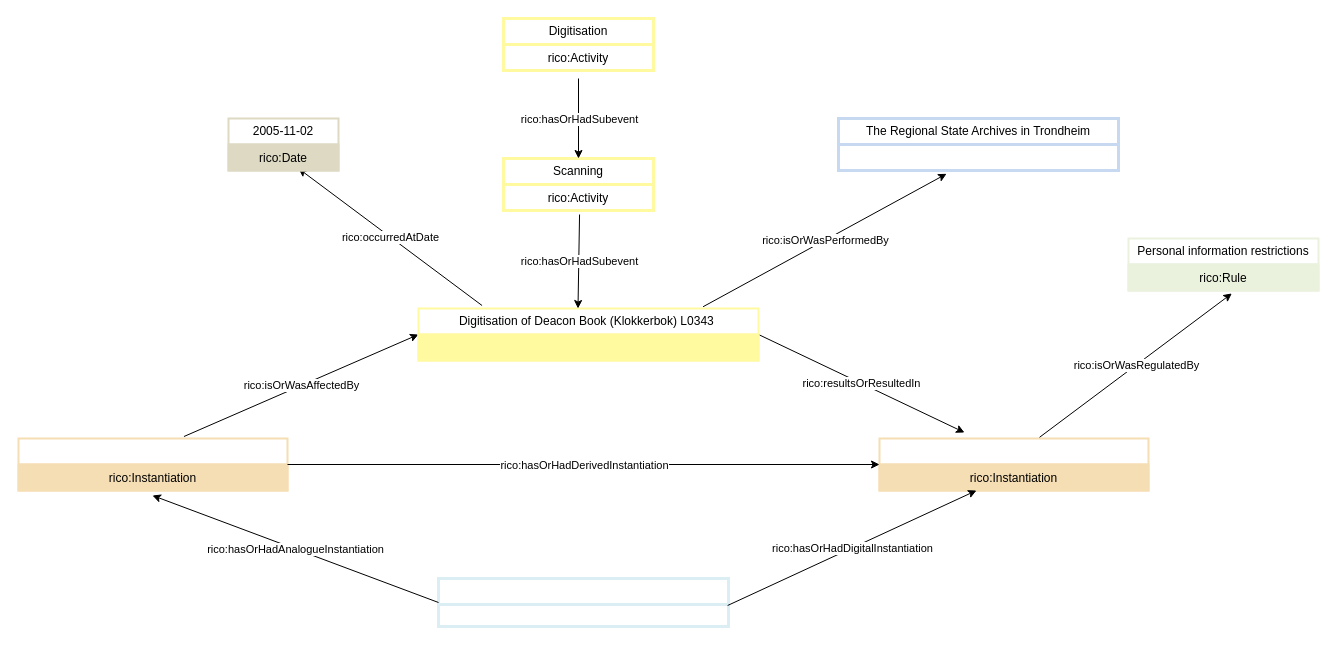
The diagram is 1336 pixels wide and 647 high, and some of its shapes have lost their labels. Each missing label, with the box of its shape:
Deacon Book (Klokkerbok) L0343: (17, 437, 288, 491)
Digitised Deacon Book (Klokkerbok) L0343: (878, 437, 1149, 491)
rico:CorporateBody: (836, 142, 1120, 172)
rico:Event: (417, 333, 759, 361)
rico:Record: (436, 602, 730, 628)
Strinda clerical district, Bratsberg parish, 1938-1952: (436, 576, 730, 628)
